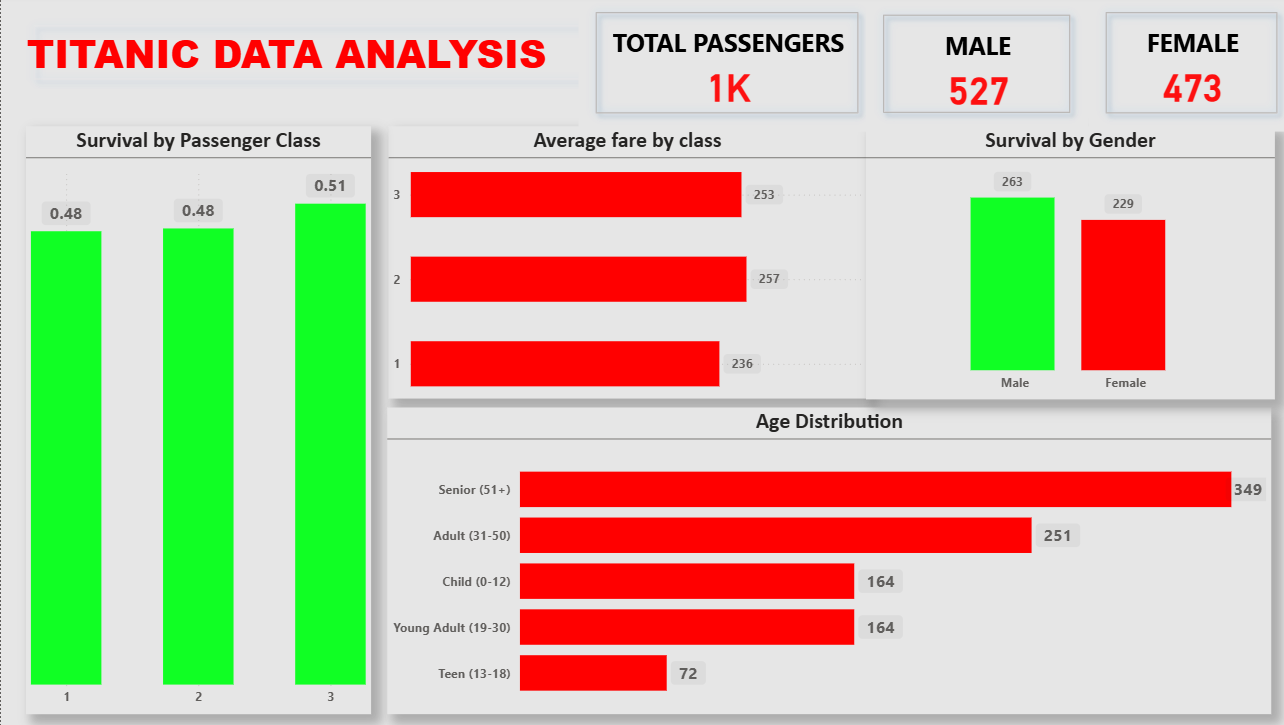

What the dashboard file says about the page in this screenshot:
{"tool":"powerbi","page":{"name":"TITANIC DATASETS","canvas":[1280,720],"ordinal":0},"visuals":[{"type":"clusteredBarChart","title":" Average fare by class","fields":{"Category":["Titanic.Pclass"],"Y":["Avg(Titanic.Fare)"]},"box":[378.8,128.8,467.5,266.2],"z":0,"group":"g1"},{"type":"columnChart","title":"Survival by Passenger Class","fields":{"Category":["Titanic.Pclass"],"Y":["Avg(Titanic.Survived)"]},"box":[25,128.8,337.5,575],"z":1000,"group":"g1"},{"type":"clusteredBarChart","title":"Age Distribution","fields":{"Category":["Titanic.AgeGroup"],"Y":["CountNonNull(Titanic.PassengerId)"]},"box":[377.5,403.8,865,300],"z":2000,"group":"g1"},{"type":"columnChart","title":"Survival by Gender","fields":{"Category":["Titanic.Sex"],"Y":["Sum(Titanic.Survived)"]},"box":[846.2,128.8,400,267.5],"z":3000,"group":"g1"},{"type":"cardVisual","fields":{"Data":["CountNonNull(Titanic.PassengerId)"]},"box":[565,0,291.2,133.8],"z":4000,"group":"g1"},{"type":"cardVisual","fields":{"Data":["Titanic.MALE"]},"box":[846.2,2.5,217.5,130],"z":5000,"group":"g1"},{"type":"cardVisual","fields":{"Data":["Titanic.FEMALE"]},"box":[1063.8,0,192.5,133.8],"z":6000,"group":"g1"},{"type":"shape","box":[23.8,21.2,565,71.2],"z":7000},{"type":"textbox","box":[0,26.2,558.8,62.5],"z":8000,"group":"g1"},{"type":"group","id":"g1","title":"Group 1","box":[0,0,1256.2,703.8],"z":8001}]}

Visuals, with their boxes in screenshot pixels (x1, y1, x2, y2), scaled from the page's 1280x720 canvas onto the 1284x725 screenshot:
" Average fare by class" clusteredBarChart: <box>380,130,849,398</box>
"Survival by Passenger Class" columnChart: <box>25,130,364,709</box>
"Age Distribution" clusteredBarChart: <box>379,407,1246,709</box>
"Survival by Gender" columnChart: <box>849,130,1250,399</box>
cardVisual - CountNonNull(Titanic.PassengerId): <box>567,0,859,135</box>
cardVisual - Titanic.MALE: <box>849,3,1067,133</box>
cardVisual - Titanic.FEMALE: <box>1067,0,1260,135</box>
shape: <box>24,21,591,93</box>
textbox: <box>0,26,561,89</box>
"Group 1" group: <box>0,0,1260,709</box>
